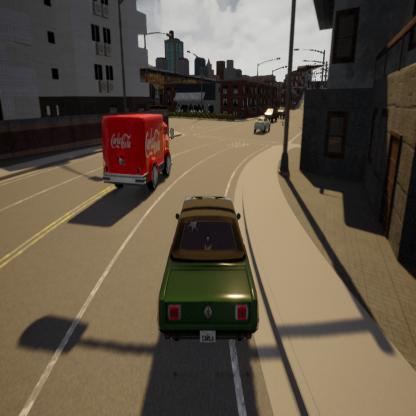Cars: (158, 192, 259, 349), (101, 116, 174, 190), (253, 116, 270, 133), (265, 106, 276, 123), (276, 107, 288, 122)
